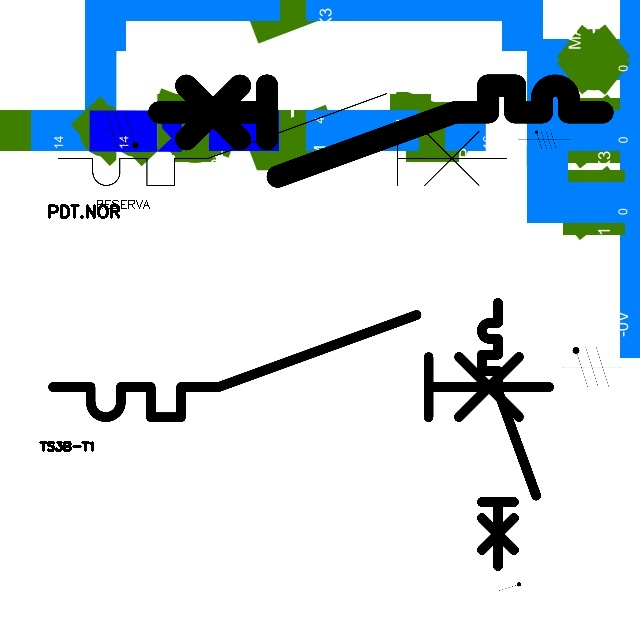interruptor_termomagnetico: (40, 302, 562, 430), (47, 82, 518, 197), (147, 74, 613, 188), (475, 296, 543, 573)
